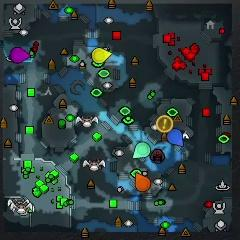Other: (157, 115, 173, 132)
p1: (167, 128, 183, 147)
p2: (133, 142, 151, 158)
p3: (9, 47, 30, 64)
p4: (91, 48, 112, 63)
p5: (135, 173, 151, 192)
